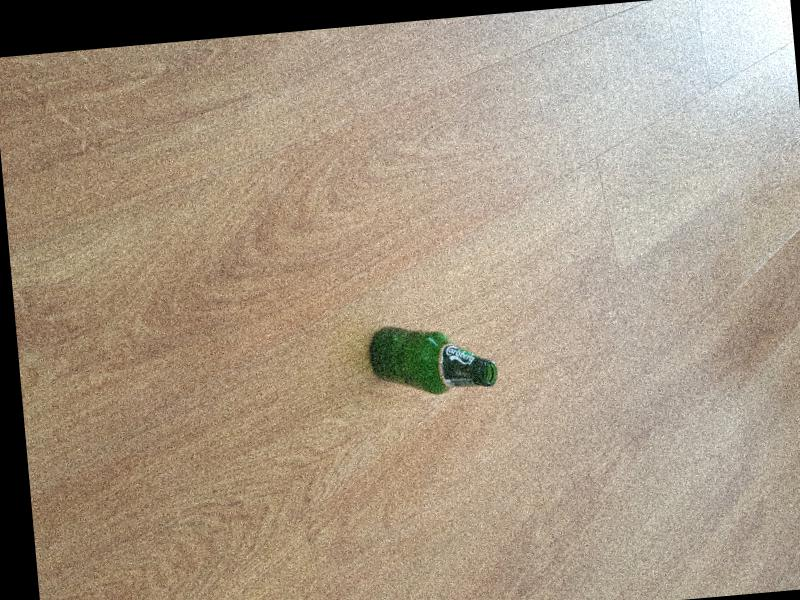Beer: (366, 316, 500, 400)
